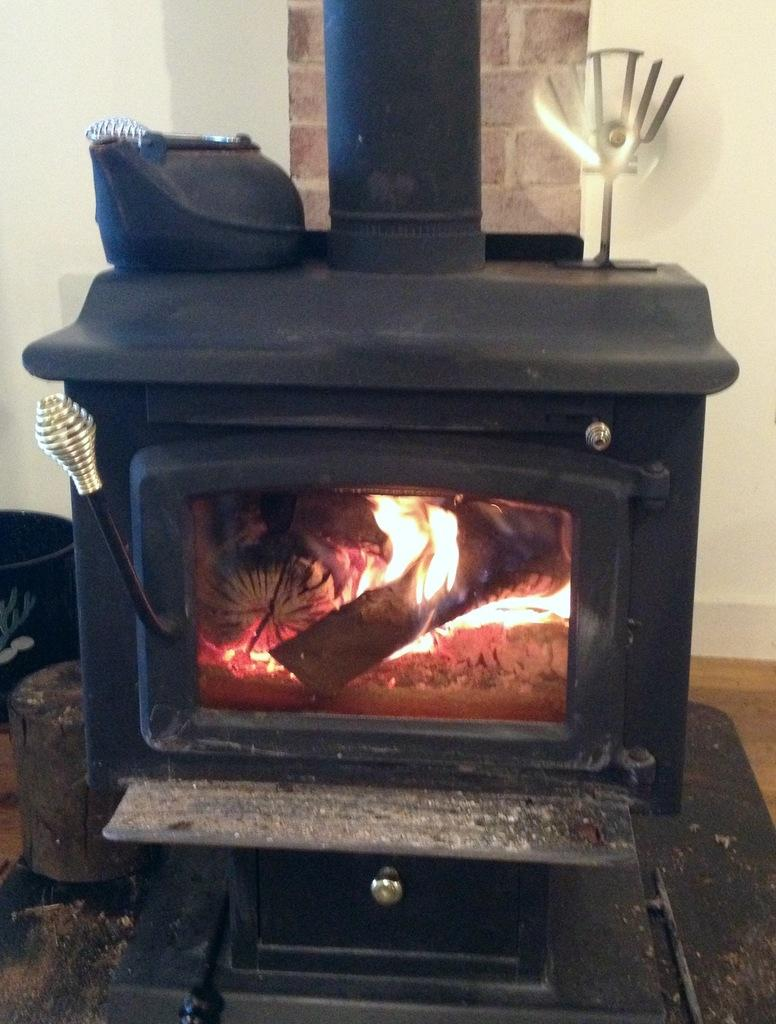Fire: (263, 487, 583, 697)
